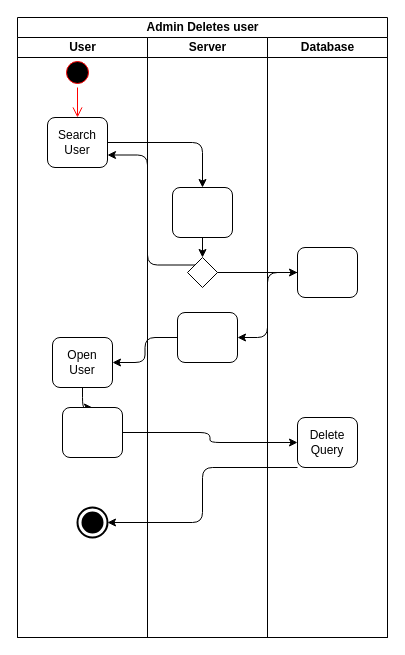
This 405x655 diagram has some shape labels left out. The shapes that lost their labels are listed below. From the top down, each one's box as (x1, y1, x2, y2) in pixels, then its label:
(172, 186, 232, 238): Validate
(296, 246, 358, 298): Query User
(176, 312, 238, 362): Get Info
(62, 406, 122, 458): Delete User
